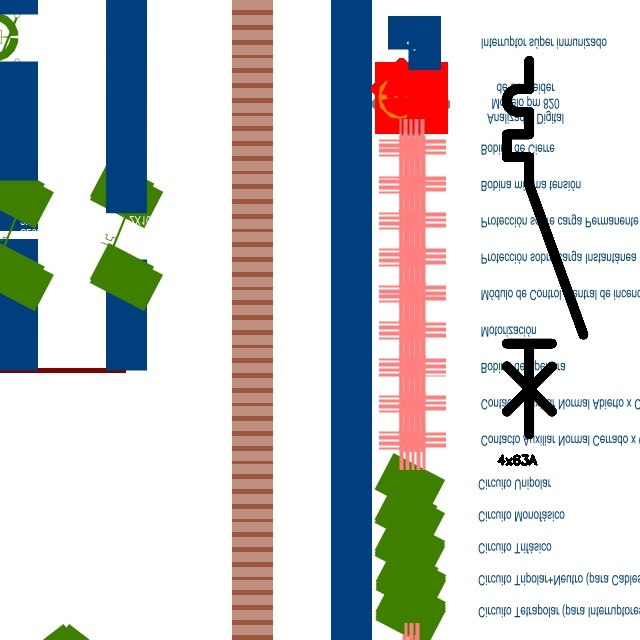interruptor_termomagnetico: (497, 51, 593, 444)
